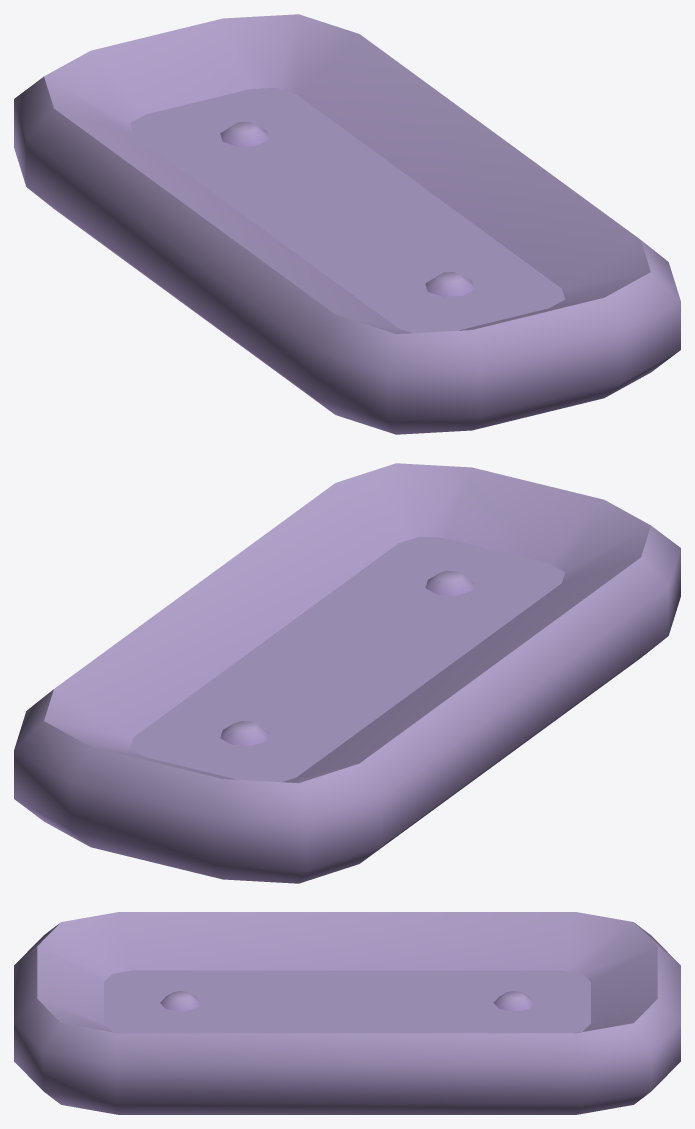
File: cushion-indent-rounded-wide.glb
3 views of the same model, one above another, from view 1: azimuth 30°, elevation 25°; view 2: azimuth 150°, elevation 25°; view 3: azimuth 270°, elevation 25° (orthographic). The views are drawn at different scales.
Parts seen in each view (by area): view 1: cushion-indent-rounded-wide; view 2: cushion-indent-rounded-wide; view 3: cushion-indent-rounded-wide.
Boxes of the visible parts, x1=… form: cushion-indent-rounded-wide: x1=14, y1=14, x2=680, y2=434; cushion-indent-rounded-wide: x1=14, y1=463, x2=680, y2=883; cushion-indent-rounded-wide: x1=14, y1=912, x2=680, y2=1114.
Bounding box in the file's own units: 0.5 × 0.1352 × 1.
